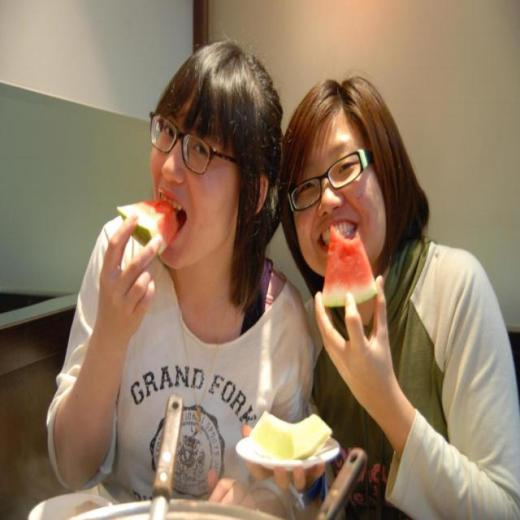Cherry: (321, 224, 380, 301), (117, 200, 180, 257)
